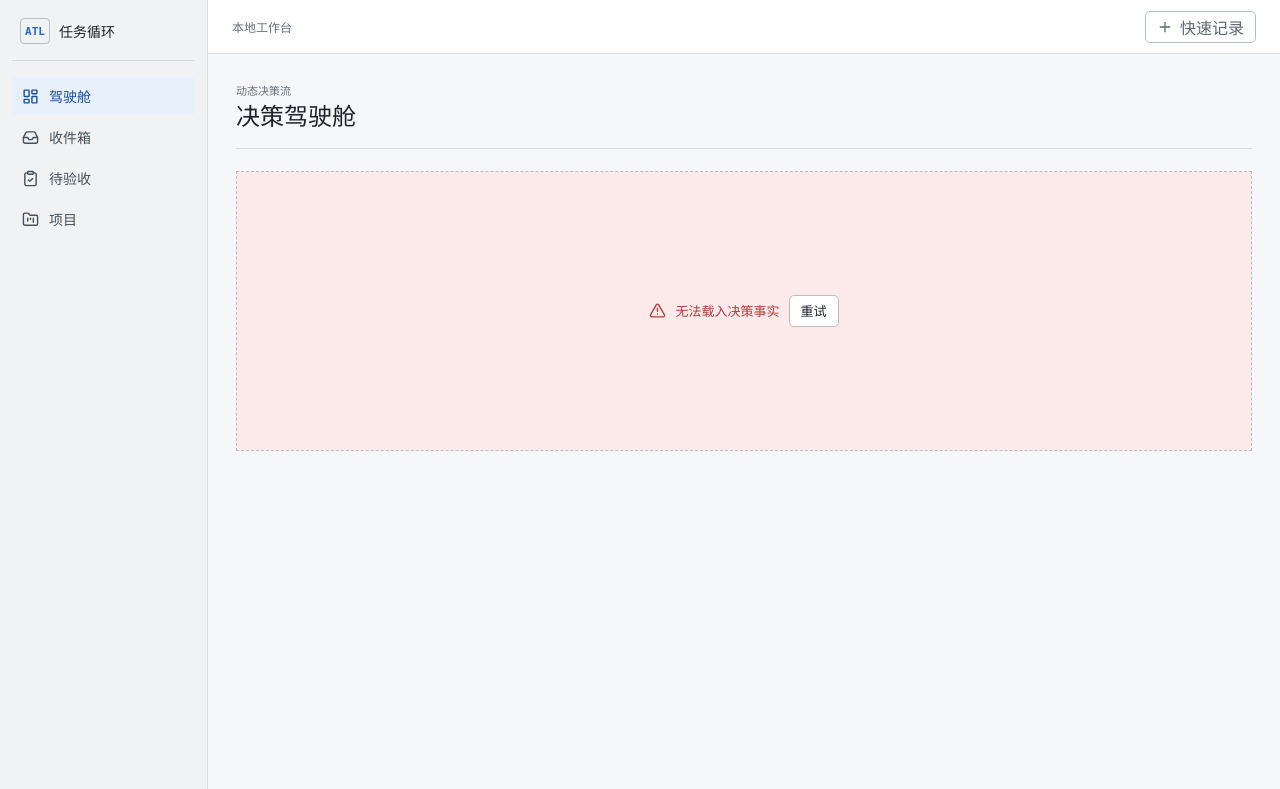
it: page data states › shows a retryable dashboard error without leaving the page
Check: the text "无法载入决策事实" is shown, box top-left (676, 301), bottom-right (780, 320)
Click the button "重试".
click(814, 311)  # box top-left (788, 295), bottom-right (838, 327)
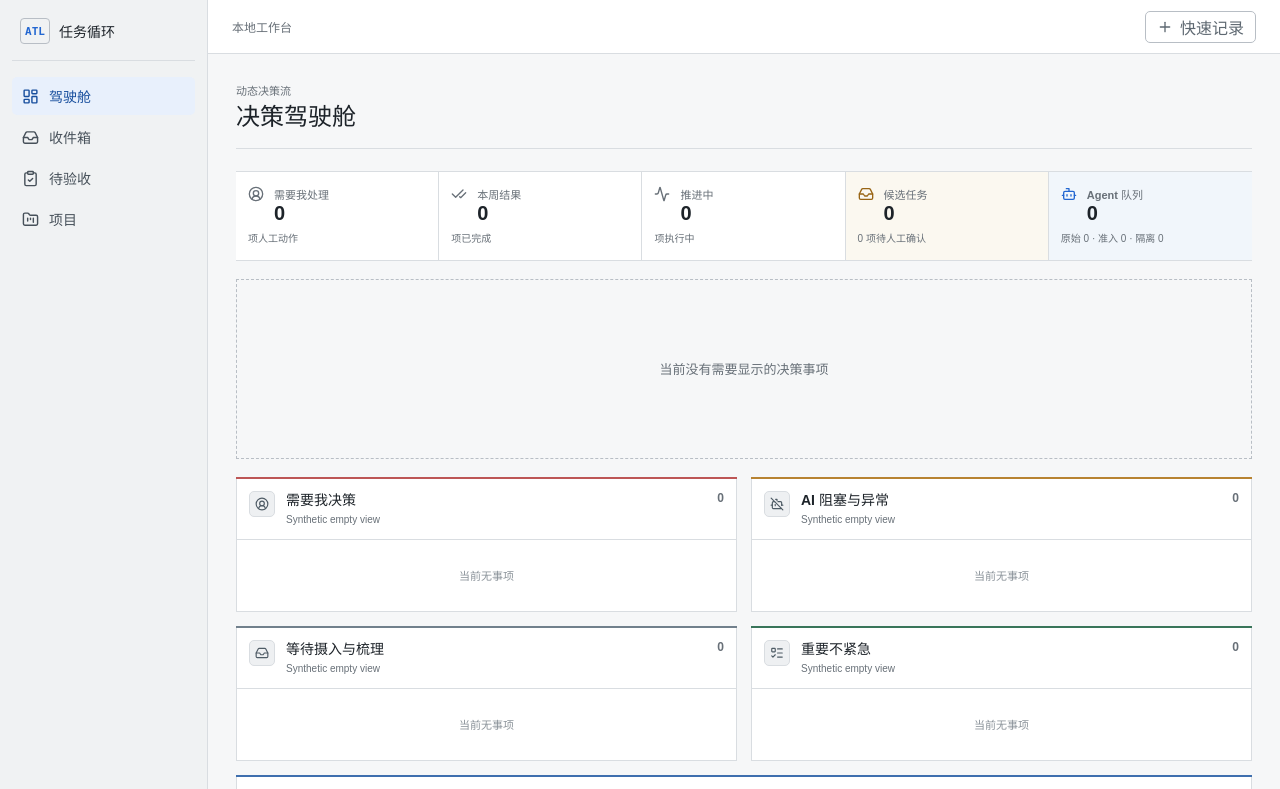
Check: the text "当前没有需要显示的决策事项" is shown, box top-left (236, 279), bottom-right (1252, 459)
